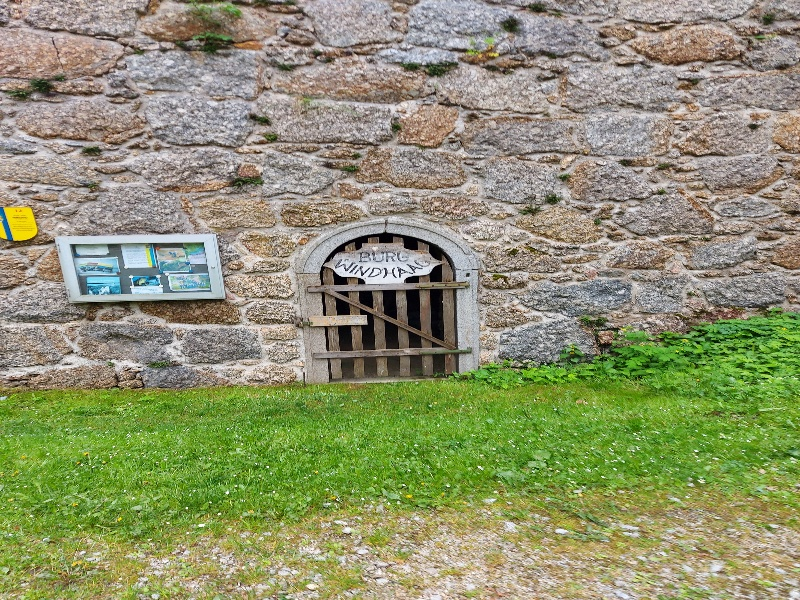dungeon: (273, 210, 491, 388)
